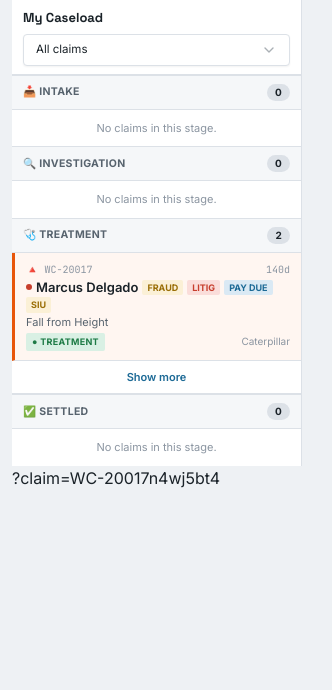
Test: Show more carries no count the browser worked out for itself
The width and height of the screenshot is (332, 690).
Click the button with test id "queue-group-treatment-more" at point(156, 377), box [12,360,301,394]
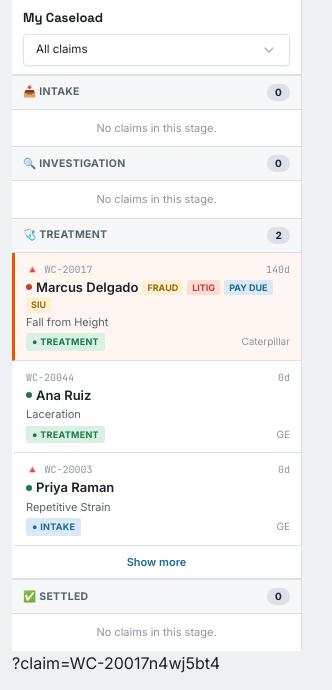
Expected: the button with test id "queue-group-treatment-more" reads "Show more", [12,546,301,579]
Result: the number of buttons with test id "queue-card" is 3 at [12,252,301,360]; [12,360,301,453]; [12,453,301,546]
